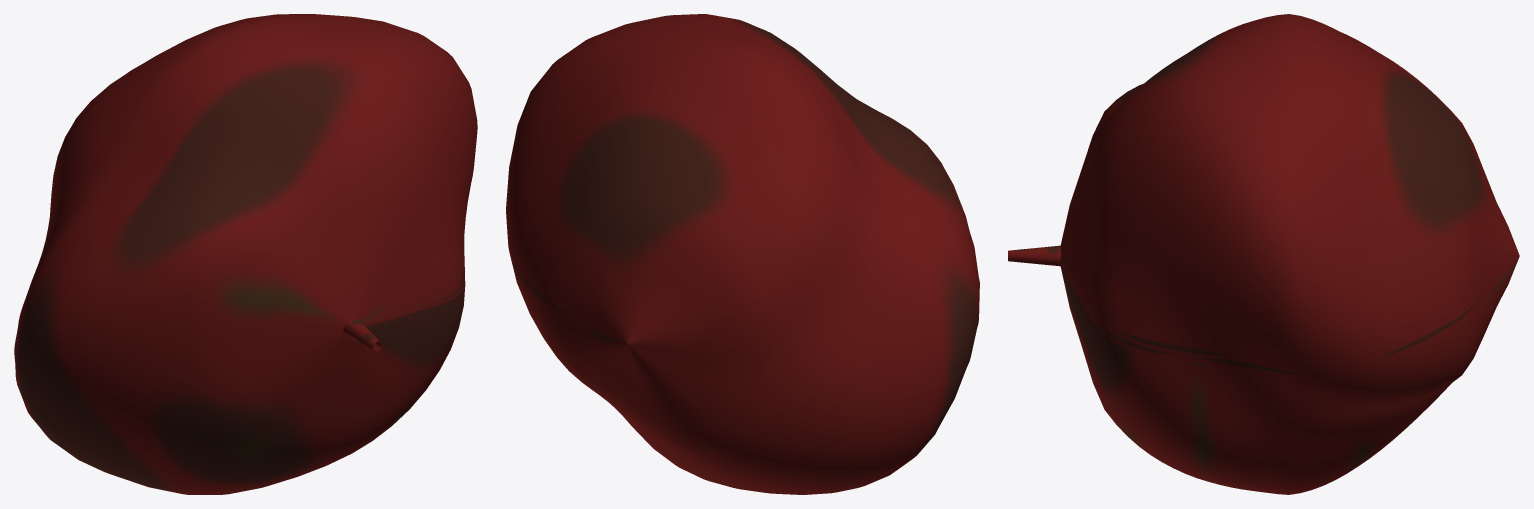
Rendered from apple_10_v2.obj.
3 views of the same model, side by side, from view 1: azimuth 30°, elevation 25°; view 2: azimuth 150°, elevation 25°; view 3: azimuth 270°, elevation 25° (orthographic). The views are drawn at different scales.
Bounding box in the file's own units: 2.16 × 2.03 × 2.04.
Materials: 1 (1 with a texture image).
